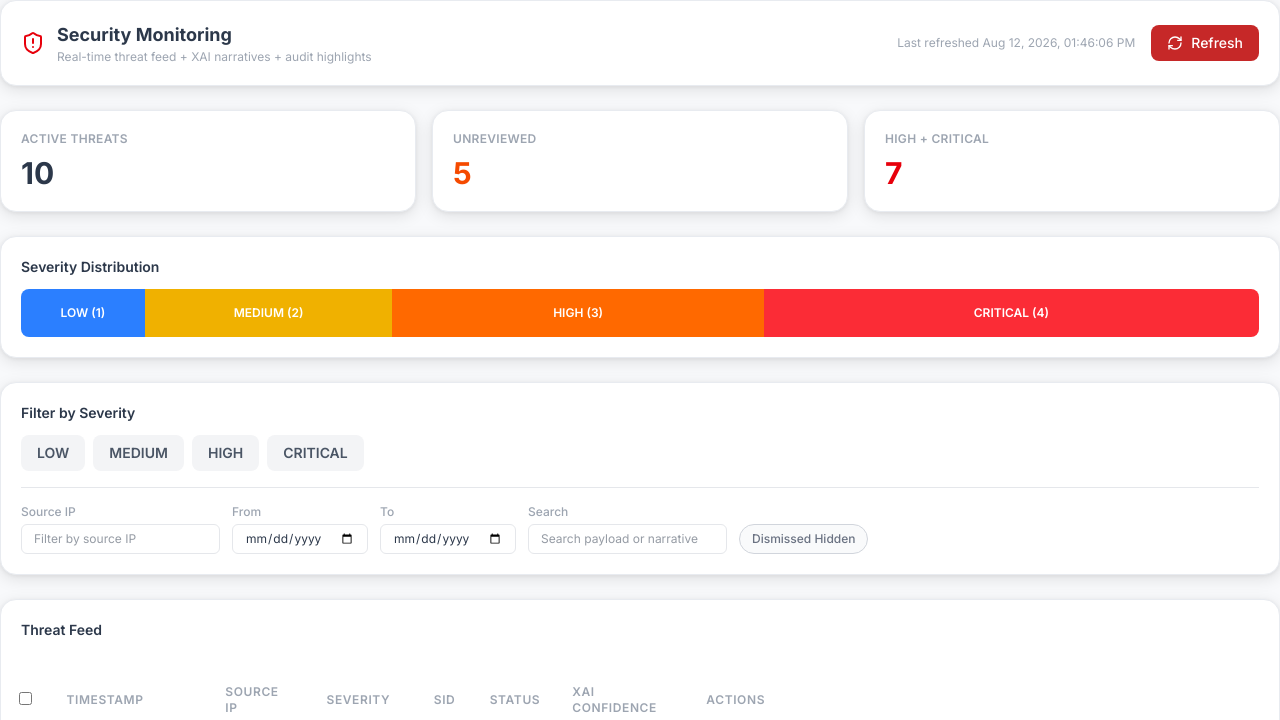
Test case: M8: Security Monitoring page — bulk actions + S3 (Task 12) › shows the grouping preview panel when the selection includes device-linked logs
Click the checkbox: (25, 698) left=18, top=692, right=32, bottom=705
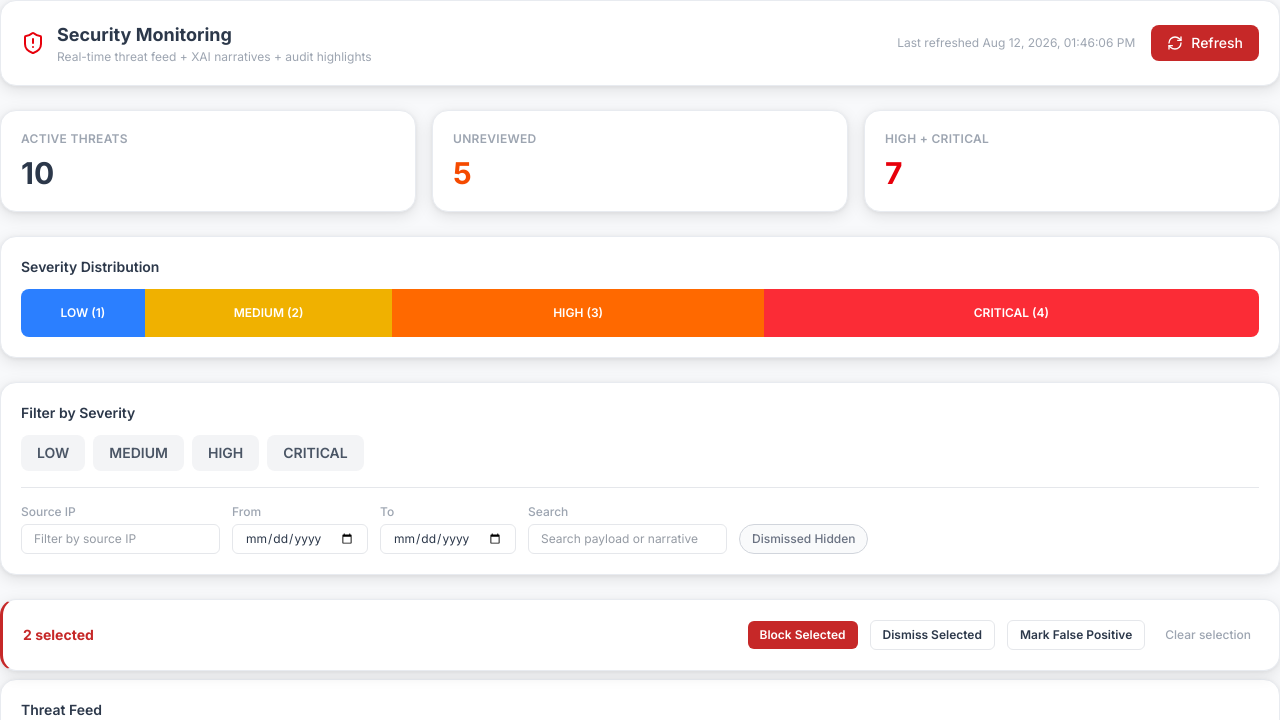
Click the button "Block Selected": (802, 635) left=748, top=621, right=858, bottom=649
(page scrolled)
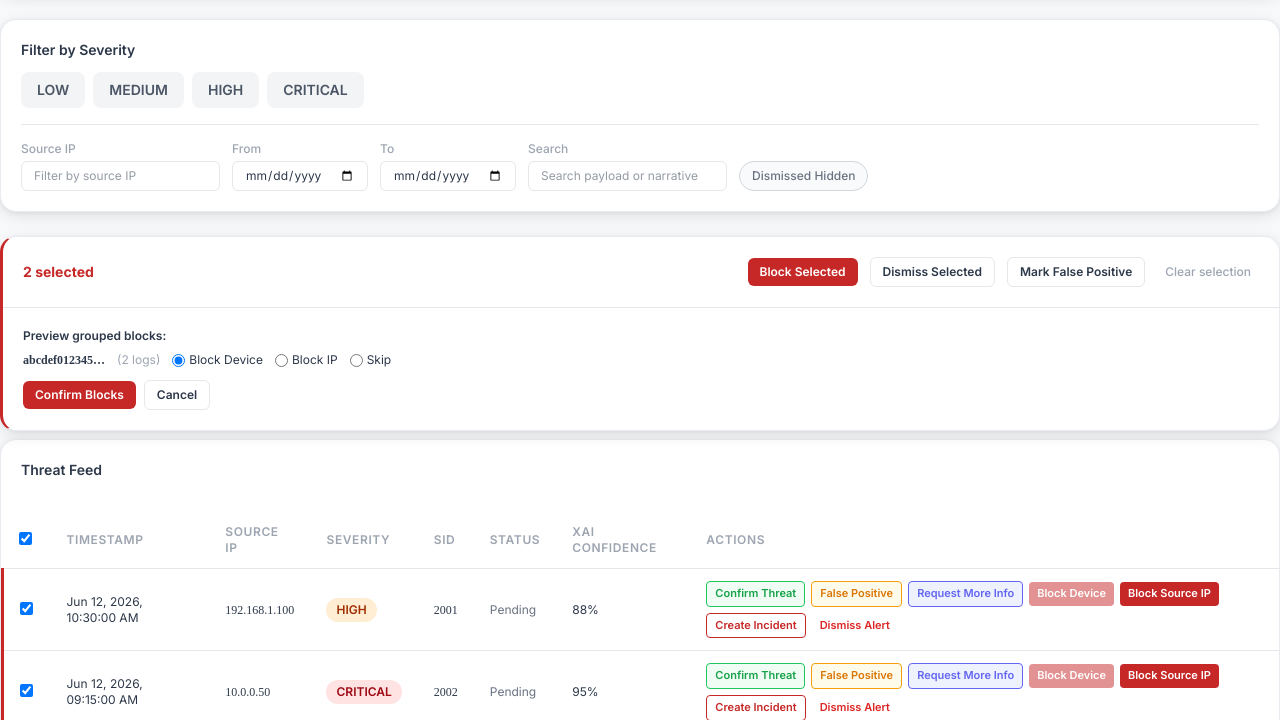
Check: the element with test id "bulk-block-preview-panel" is shown, box left=3, top=307, right=1279, bottom=430
Check: the text "abcdef012345…" is shown, box left=23, top=352, right=105, bottom=368
Check: the text "Block Device" is shown, box left=172, top=352, right=263, bottom=368
